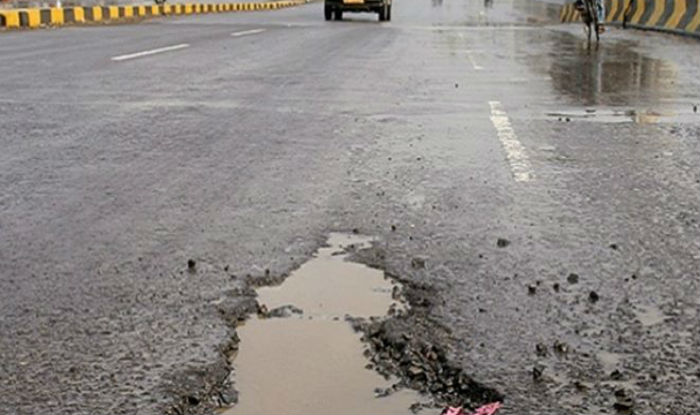pothole: (225, 207, 448, 413)
